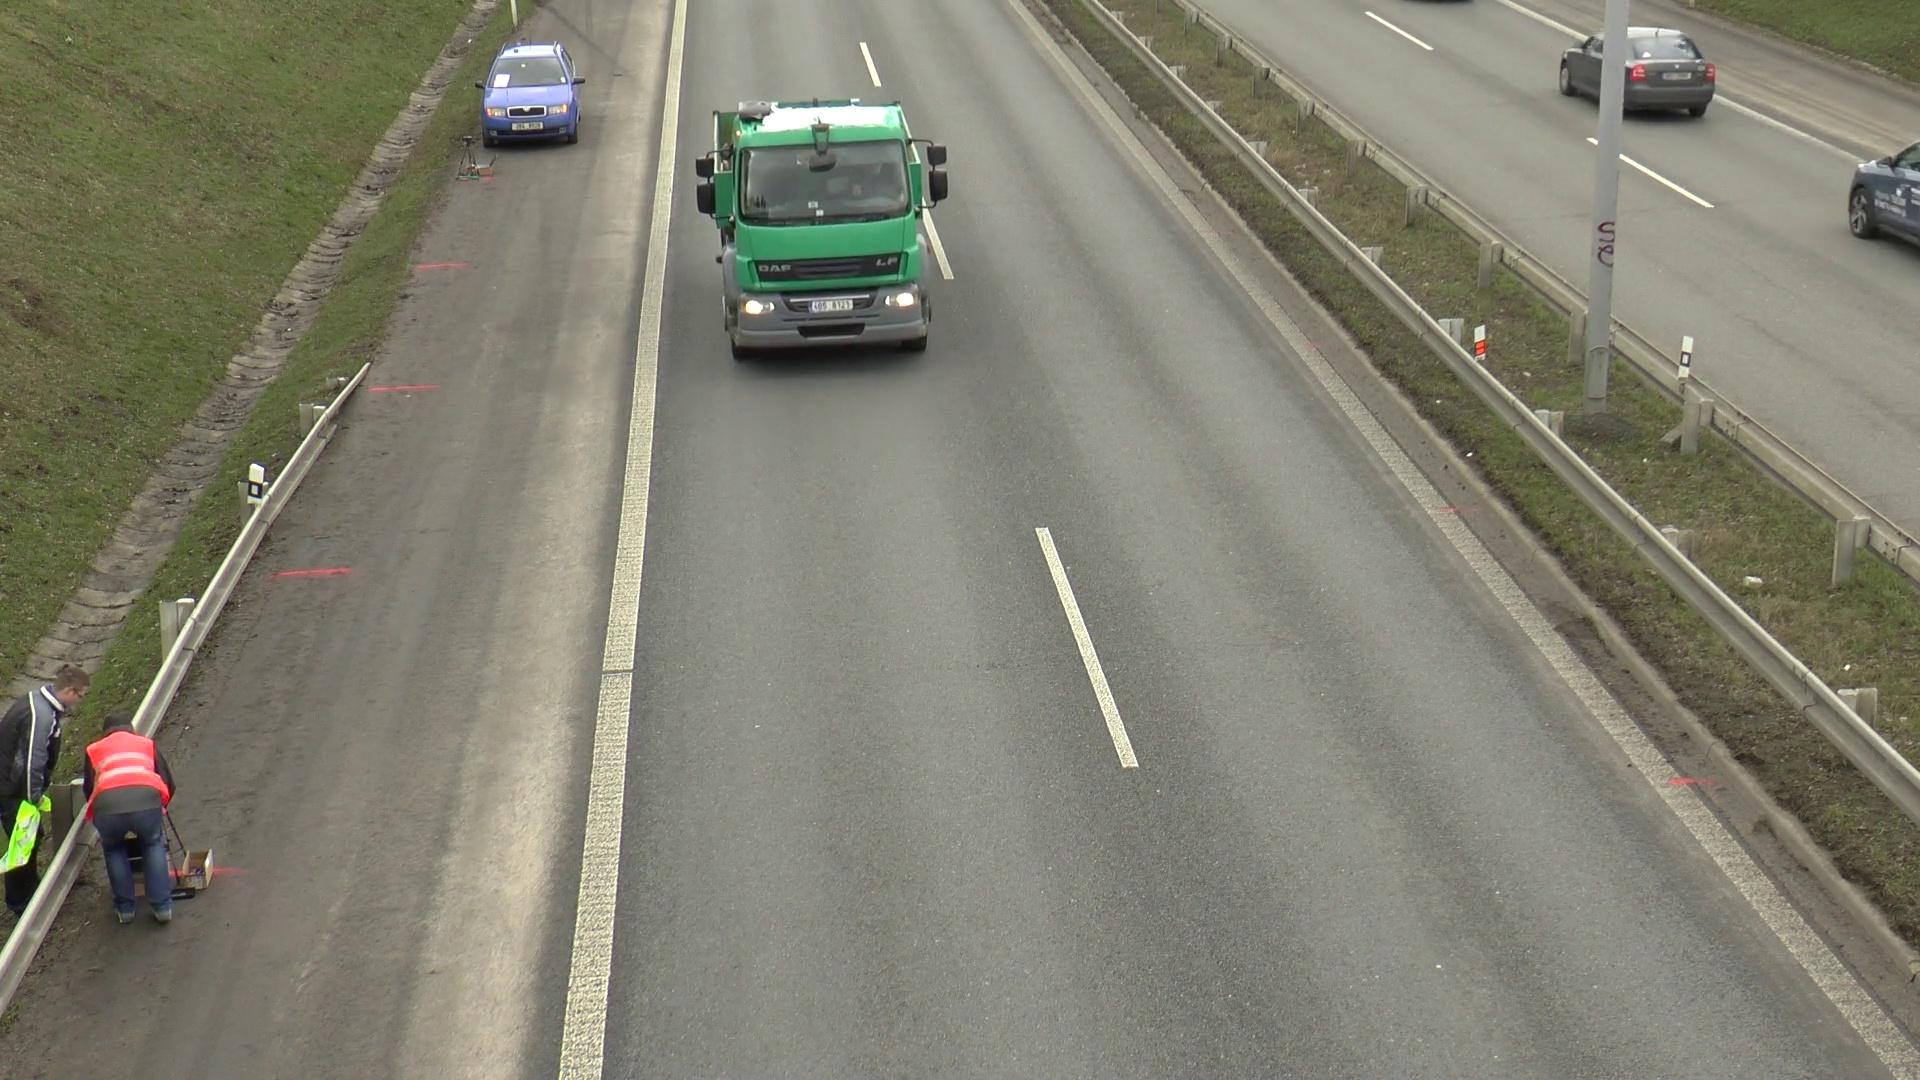Car: (1564, 22, 1712, 129), (476, 48, 592, 163), (1858, 132, 1920, 260)
Human: (80, 718, 197, 928), (2, 666, 77, 917)
Lorry: (692, 92, 957, 380)
